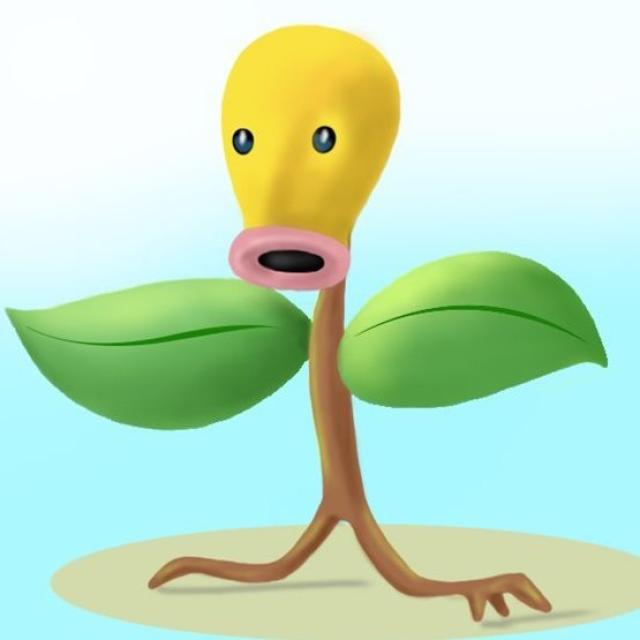Bellsprout: (163, 24, 454, 595)
